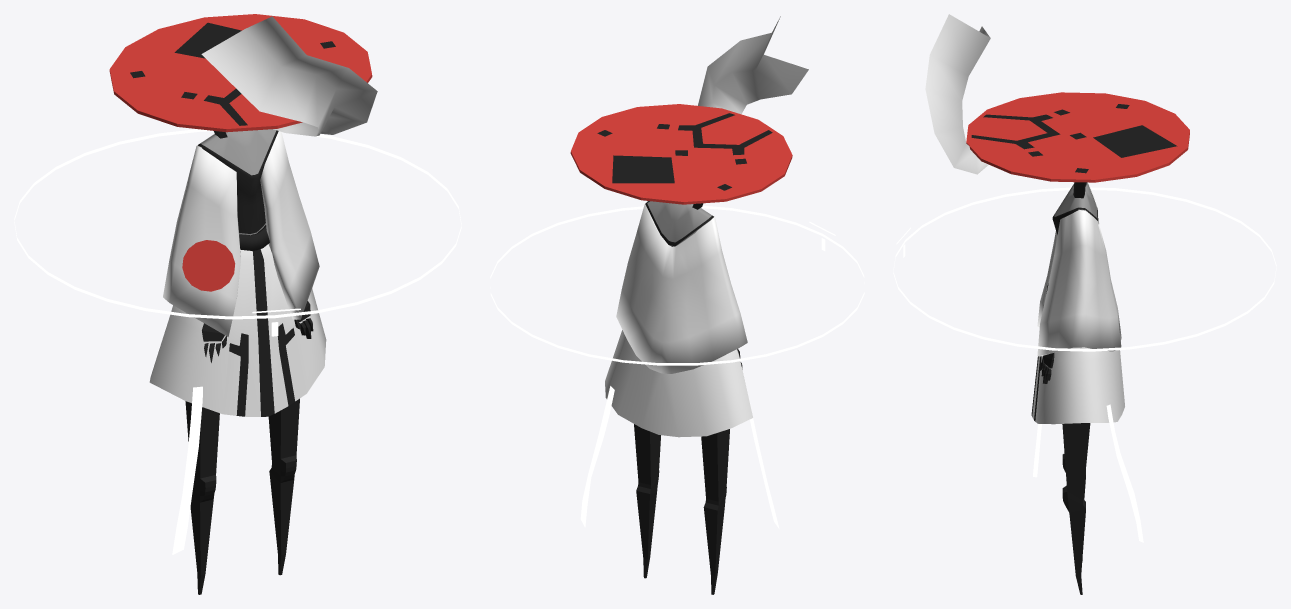
3 renders of one model, left to right at view 1: azimuth 30°, elevation 25°; view 2: azimuth 150°, elevation 25°; view 3: azimuth 270°, elevation 25°, orthographic. The views are drawn at different scales.
Parts seen in each view (by area): view 1: cloth_bottom_8, Circle.001_3, cloth_top_7, fake_smoke_10, legs_5, torso_6, Info_circle_14, accent_circle_13, flappy_front_12, hands_15; view 2: Circle.001_3, cloth_top_7, cloth_bottom_8, legs_5, fake_smoke_10, Info_circle_14, torso_6, flappy_back_11; view 3: Circle.001_3, cloth_top_7, cloth_bottom_8, fake_smoke_10, legs_5, Info_circle_14, torso_6, flappy_back_11.
Part boxes in pixels (x1,y1,x2,y2): cloth_bottom_8: (149, 244, 326, 416); Circle.001_3: (109, 14, 372, 132); cloth_top_7: (163, 131, 319, 336); fake_smoke_10: (201, 16, 377, 136); legs_5: (185, 398, 299, 594); torso_6: (198, 129, 278, 235); Info_circle_14: (14, 129, 461, 336); accent_circle_13: (182, 240, 235, 291); flappy_front_12: (172, 386, 202, 554); hands_15: (202, 301, 313, 362); Circle.001_3: (570, 104, 792, 204); cloth_top_7: (616, 201, 747, 373); cloth_bottom_8: (605, 330, 752, 437); legs_5: (634, 424, 729, 594); fake_smoke_10: (698, 16, 808, 114); Info_circle_14: (490, 205, 864, 365); torso_6: (645, 201, 713, 246); flappy_back_11: (580, 386, 614, 527); Circle.001_3: (966, 92, 1189, 182); cloth_top_7: (1037, 182, 1121, 356); cloth_bottom_8: (1031, 283, 1124, 424); fake_smoke_10: (925, 14, 990, 174); legs_5: (1062, 423, 1090, 594); Info_circle_14: (893, 187, 1276, 351); torso_6: (1052, 182, 1098, 234); flappy_back_11: (1106, 404, 1143, 542).
Bounding box in the file's own units: 1.42 × 2.23 × 1.42.
